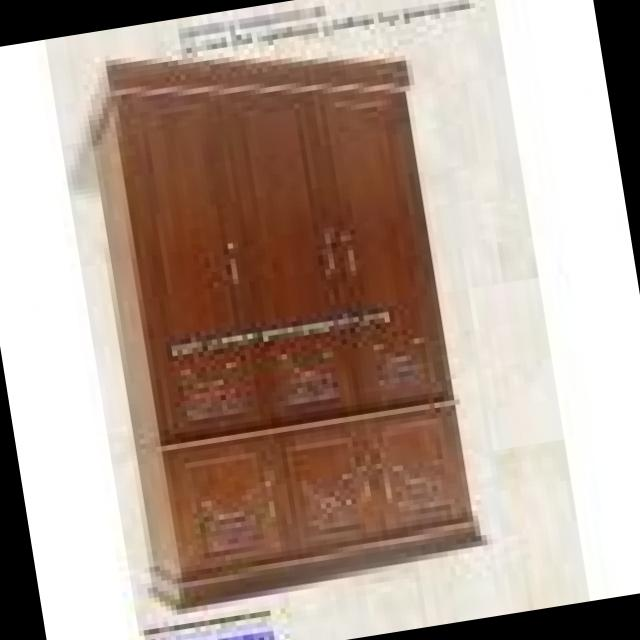Closet: (64, 13, 500, 626)
